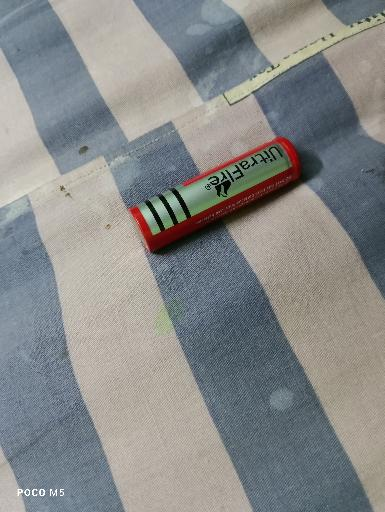Battery: (129, 136, 302, 253)
